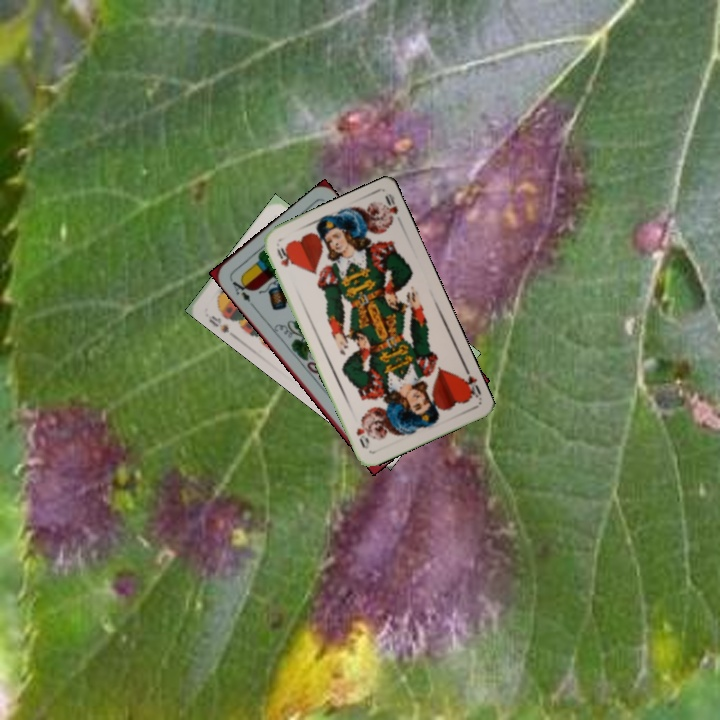EA: (226, 275, 253, 305)
HO: (456, 363, 484, 402), (273, 243, 294, 269)
S8: (205, 311, 232, 336)
